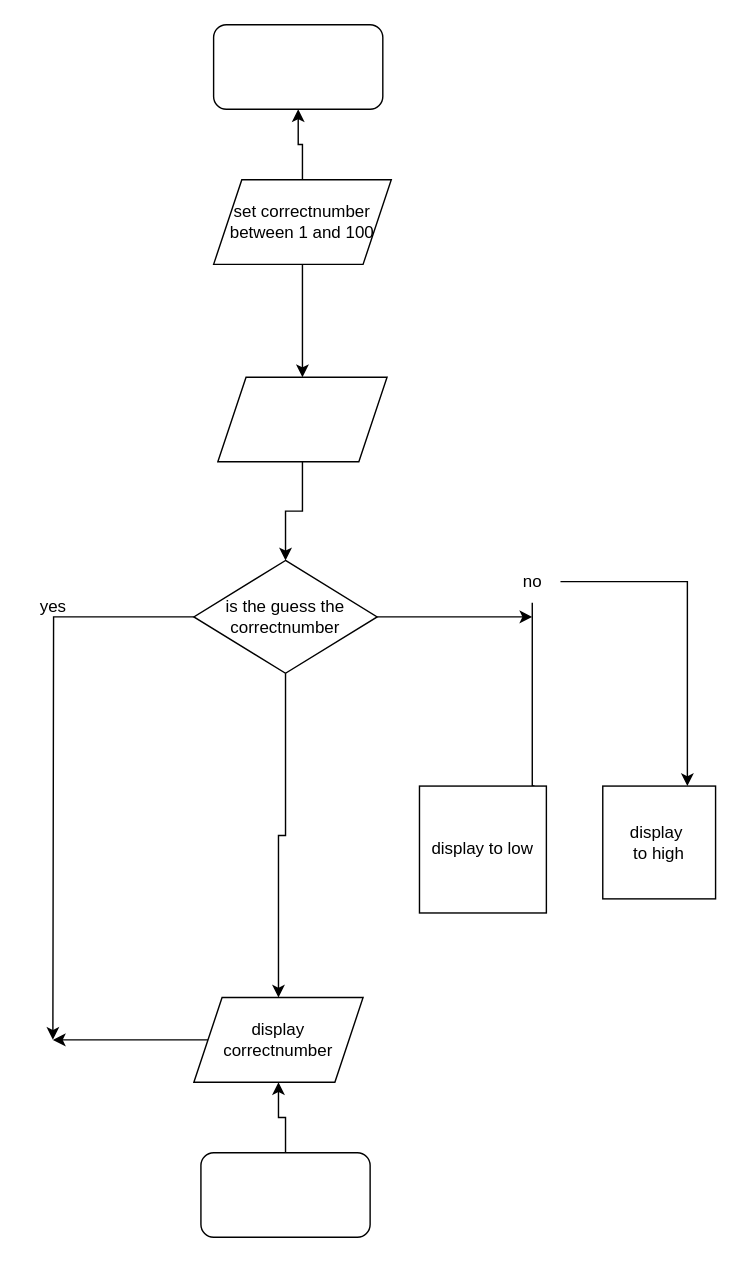
Some shapes in this 740 by 1262 pixel diagram are drawn without their labels. Each missing label, with the box of its shape:
end: (200, 1151, 370, 1237)
Show Guess correctnumber between 1 and 100: (216, 376, 387, 462)
START: (212, 23, 383, 109)
